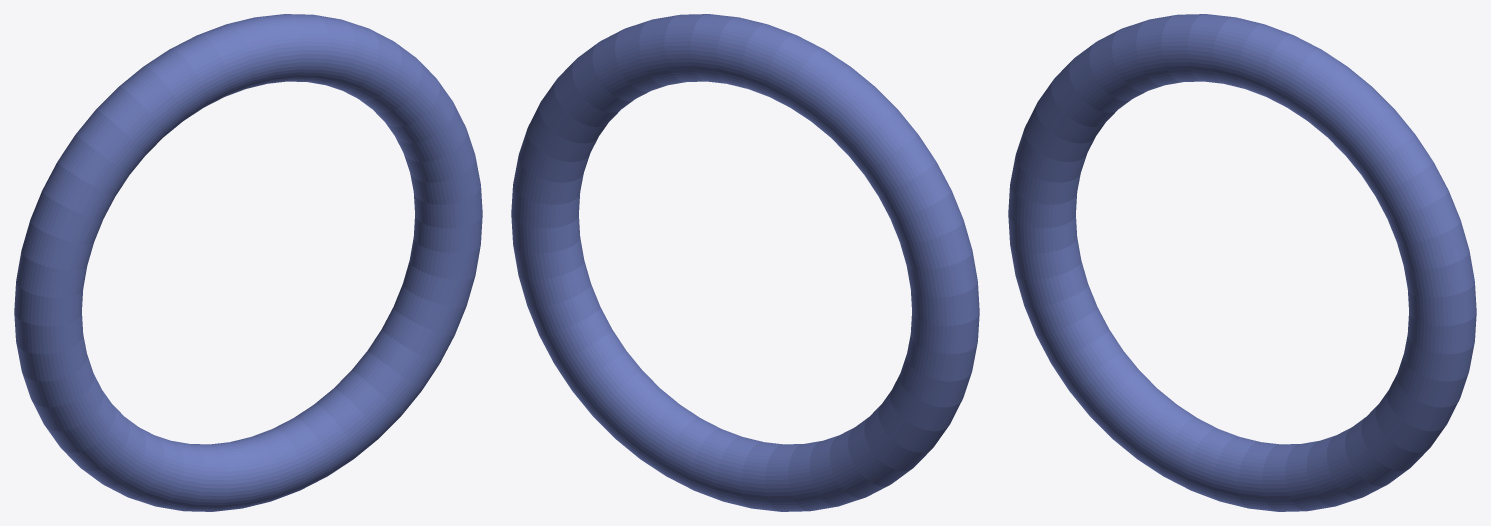
The picture shows the model from 3 angles, left to right: view 1: azimuth 30°, elevation 25°; view 2: azimuth 150°, elevation 25°; view 3: azimuth 330°, elevation 25°; orthographic projection.
Visible parts, largest first — view 1: world; view 2: world; view 3: world.
Boxes of the visible parts, x1=… form: world: x1=14, y1=14, x2=482, y2=511; world: x1=511, y1=14, x2=979, y2=511; world: x1=1008, y1=14, x2=1476, y2=511.
Size of the model in its own units: 19.87 by 19.83 by 2.53.
